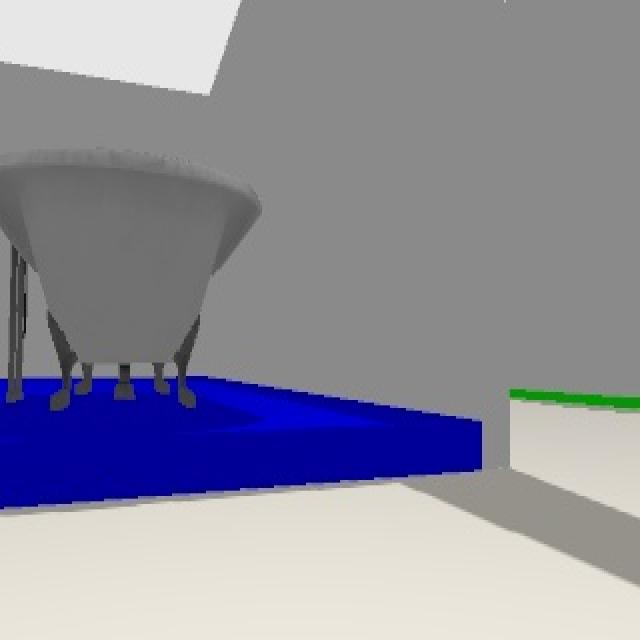bathtub: (0, 149, 260, 411)
